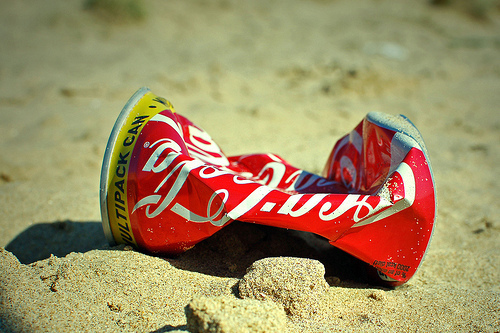litter: (100, 85, 437, 286)
